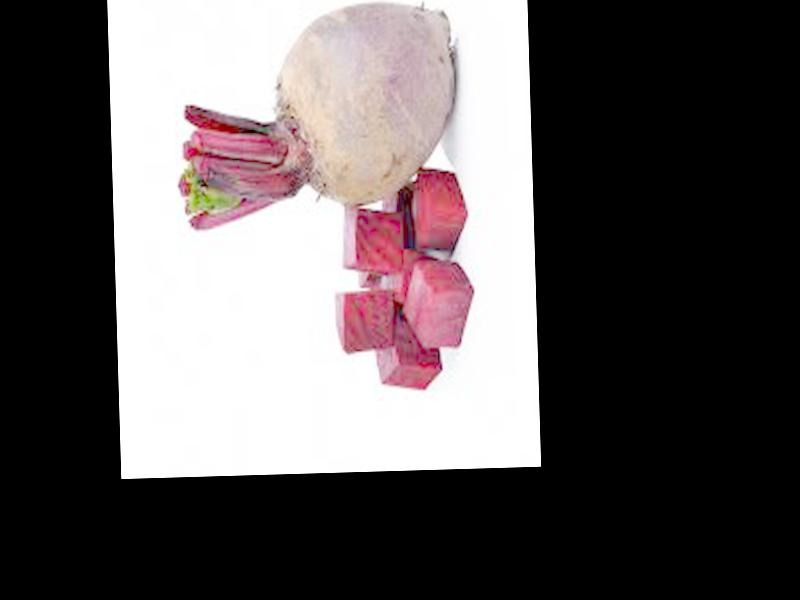Beet: (175, 1, 460, 230)
